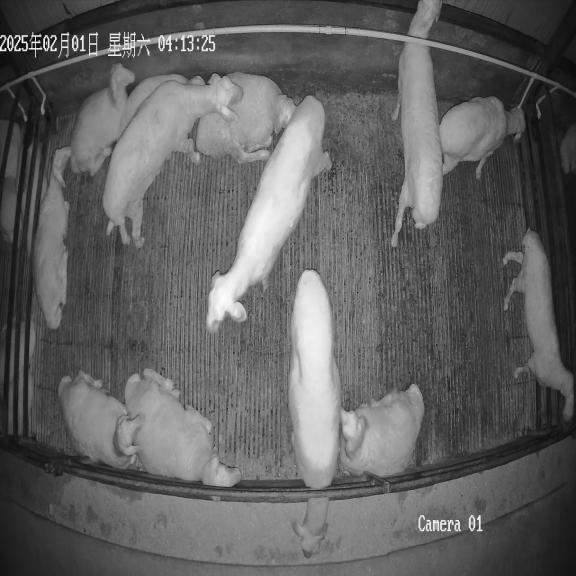drinking: (439, 96, 525, 179)
eating: (288, 270, 341, 557)
lying: (125, 369, 241, 486), (196, 72, 296, 164), (58, 371, 141, 468), (340, 384, 424, 477), (70, 63, 135, 176), (33, 146, 71, 330), (115, 74, 205, 139)
stand: (206, 96, 331, 333), (102, 75, 242, 247), (503, 230, 574, 421), (391, 0, 443, 247)
